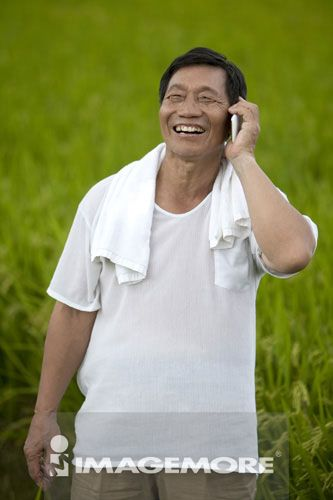talk: (157, 82, 260, 162)
